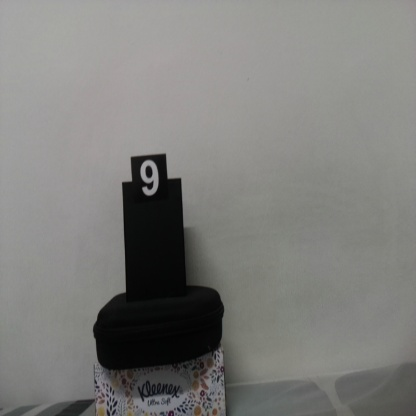id_9: (131, 157, 168, 211)
